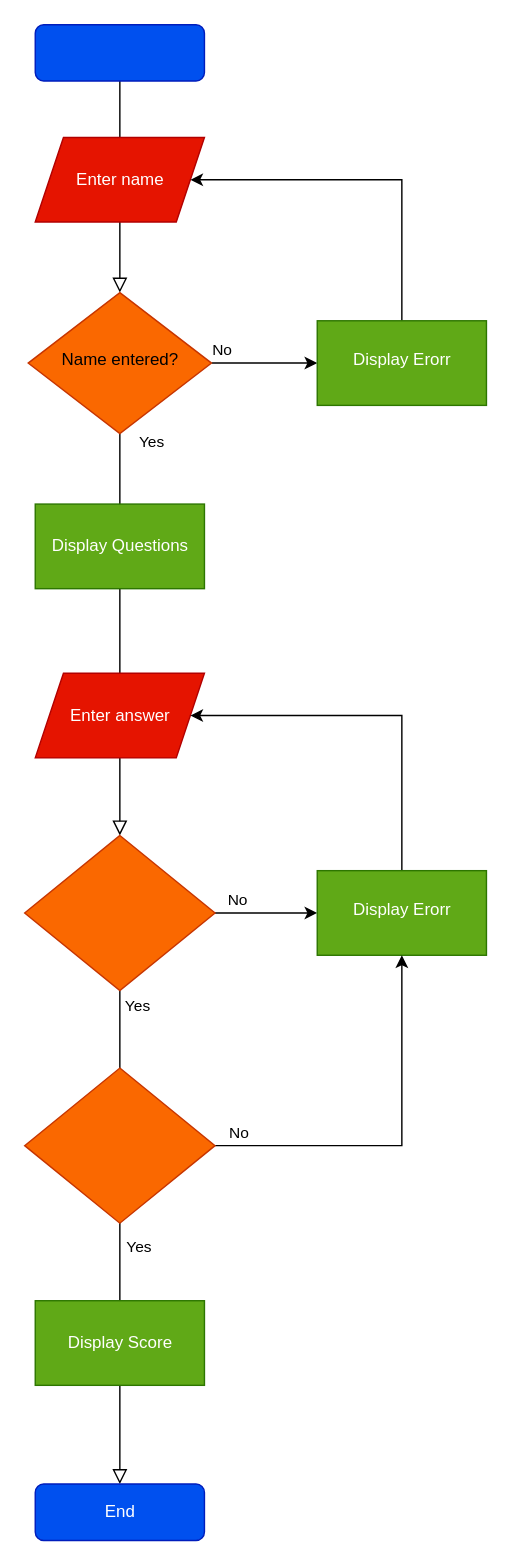
Some shapes in this 512 by 1565 pixel diagram are drawn without their labels. Each missing label, with the centre of its shape:
Answer entered?: pixel 119 912
Answer valid?: pixel 119 1145
Start: pixel 119 52
